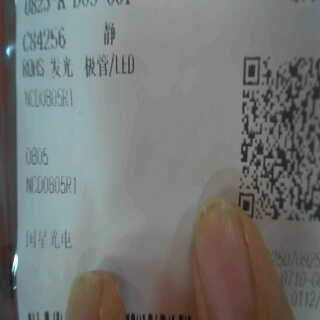LED: (46, 51, 145, 78)
